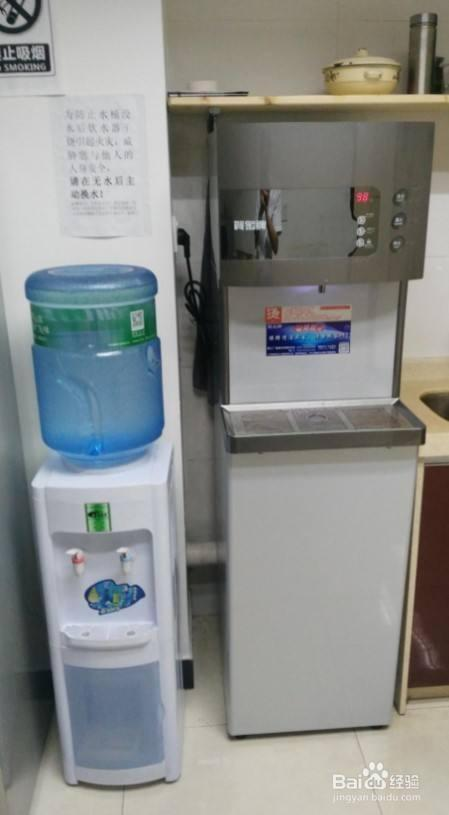Dispenser: (24, 265, 182, 788)
